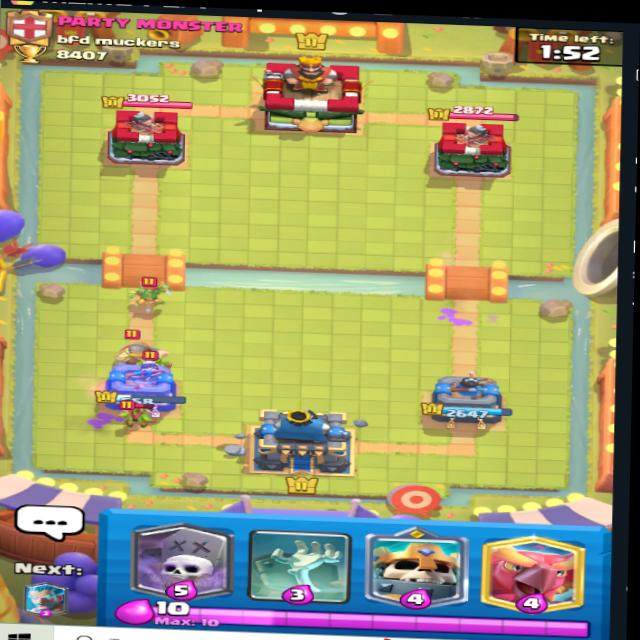goblin: (120, 398, 163, 435), (132, 356, 168, 373)
knight: (104, 326, 166, 373)
spear-goblin: (126, 265, 167, 314)
